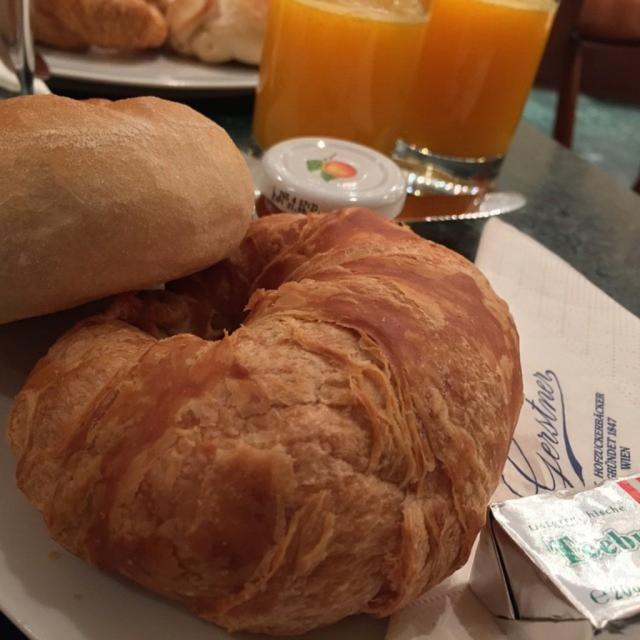Croissant: (26, 228, 512, 640)
